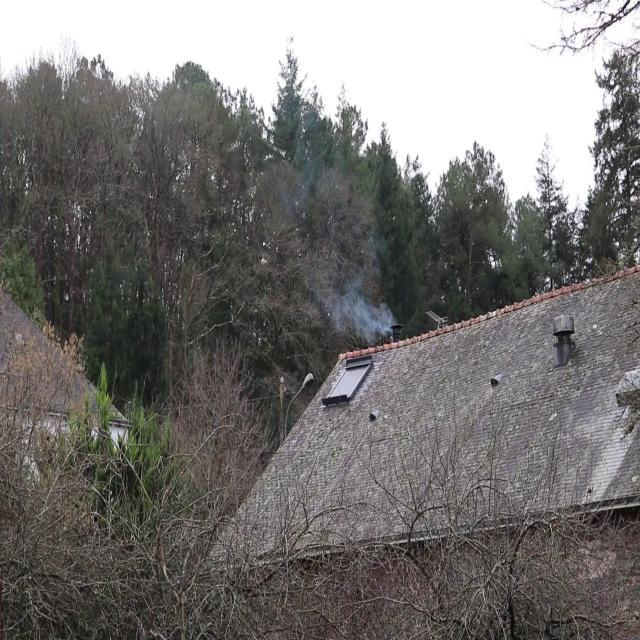Smoke: (332, 280, 396, 337)
